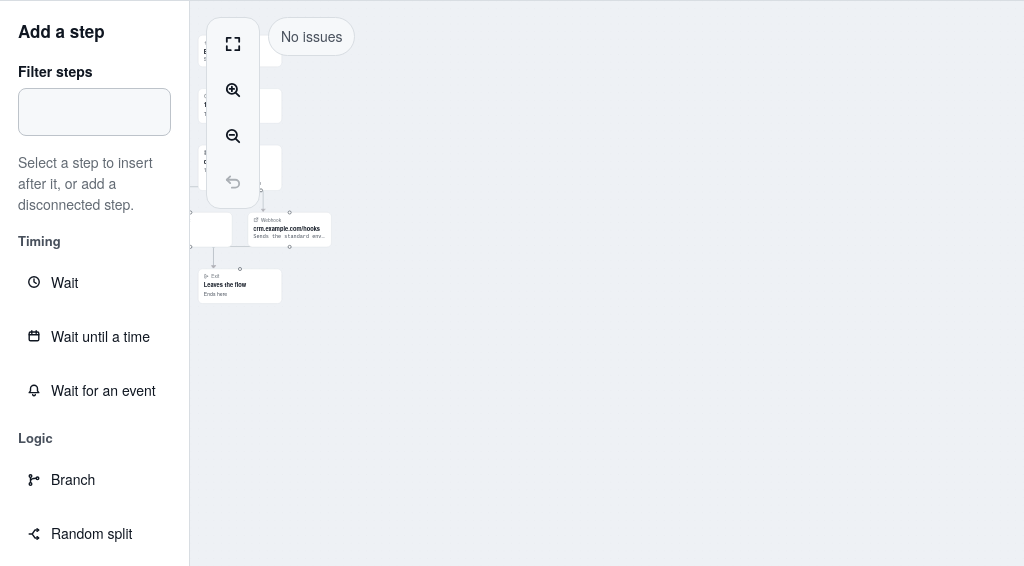
Test case: wiring and undo › undoes the last edit and saves the restored graph
Click the element named "Update a trait: " at (190, 230), box x1=148 y1=212 x2=232 y2=247
(page scrolled)
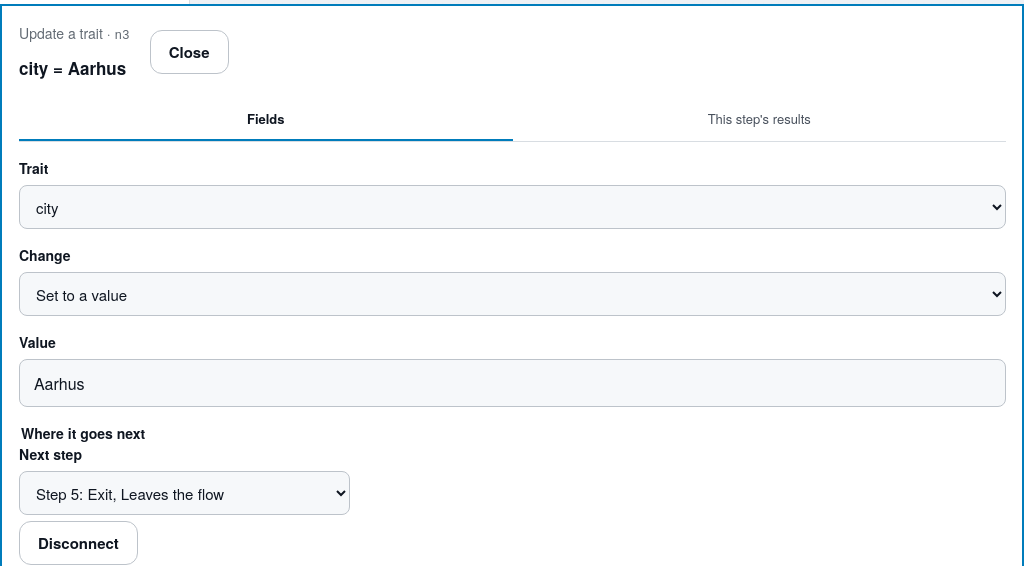
Select "Step 4: Webhook, crm.example.com/hooks" in the dropdown labelled "Next step" at (184, 493), box x1=19 y1=471 x2=350 y2=515
(page scrolled)
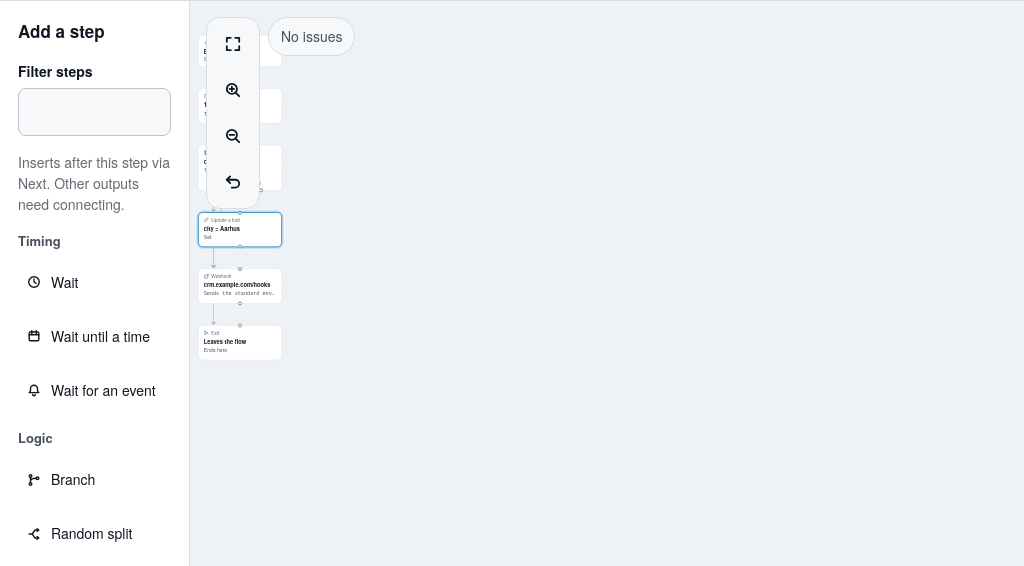
Click the button named "Undo" at (233, 182), box x1=211 y1=160 x2=255 y2=204
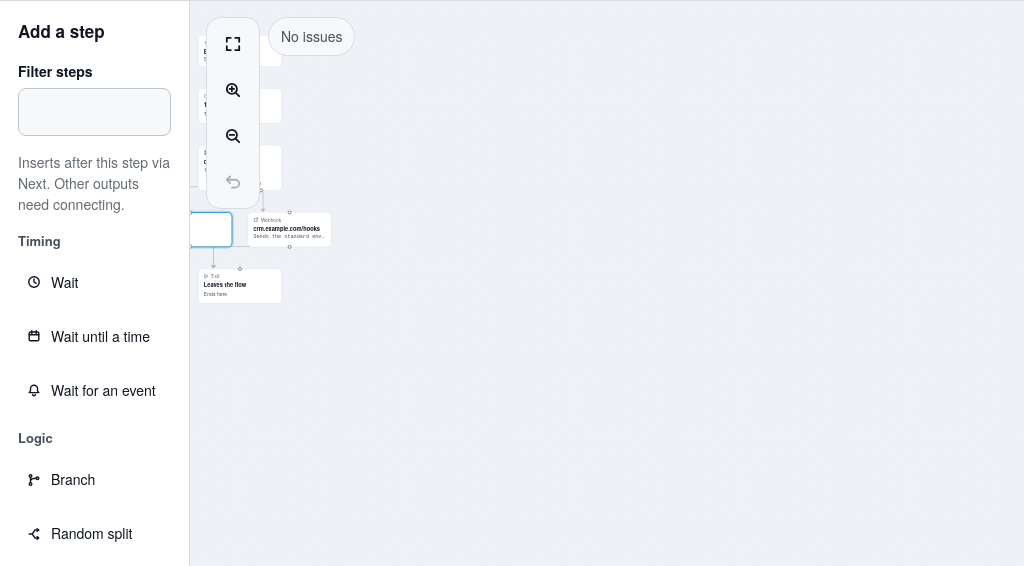
Check: the button named "Undo" is disabled, box x1=211 y1=160 x2=255 y2=204
